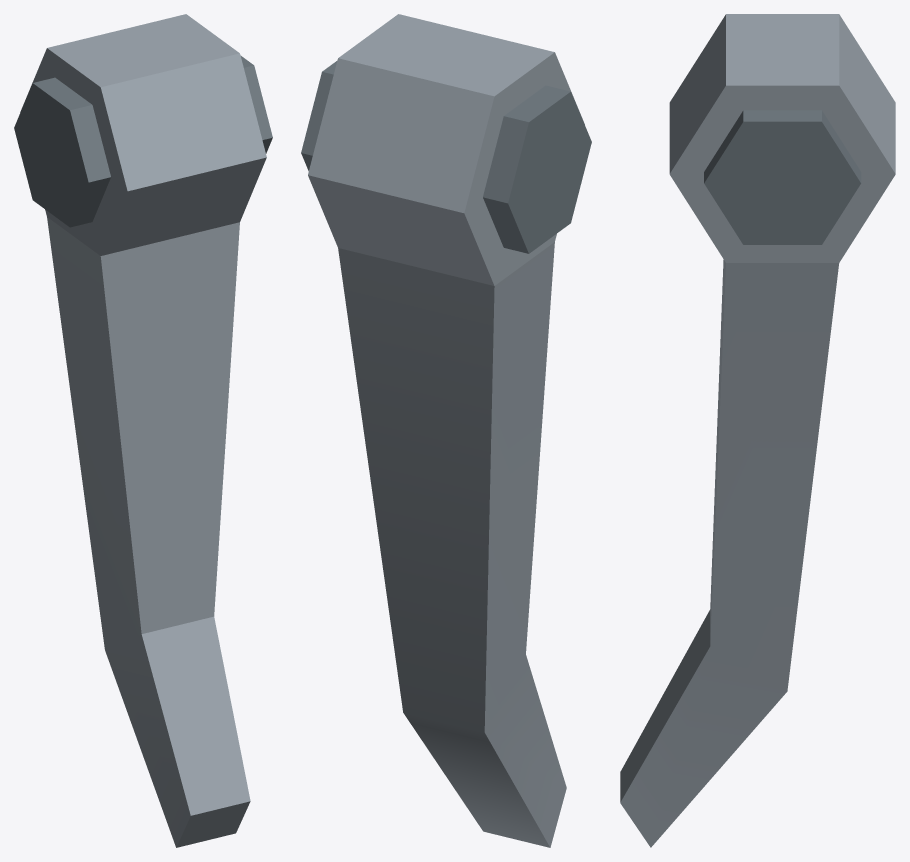
File: SM_Prop_AirSprayer_02_Trigger.fbx
3 views of the same model, side by side, from view 1: azimuth 30°, elevation 25°; view 2: azimuth 150°, elevation 25°; view 3: azimuth 270°, elevation 25° (orthographic). The views are drawn at different scales.
Parts seen in each view (by area): view 1: SM_Prop_AirSprayer_02_Trigger; view 2: SM_Prop_AirSprayer_02_Trigger; view 3: SM_Prop_AirSprayer_02_Trigger.
Boxes of the visible parts, x1,y1,x2,y2 form: SM_Prop_AirSprayer_02_Trigger: (14,14,272,847); SM_Prop_AirSprayer_02_Trigger: (301,14,591,847); SM_Prop_AirSprayer_02_Trigger: (620,14,895,847).
Bounding box in the file's own units: 3.35 × 12.94 × 4.13.
